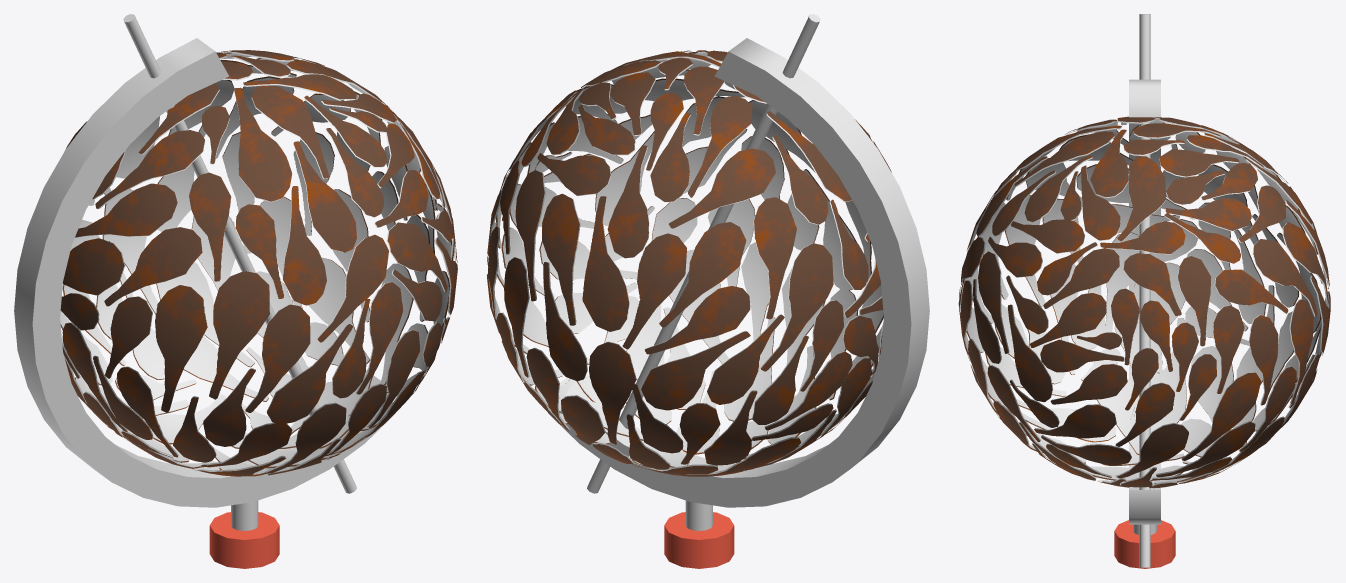
The model's file is RotondaMundoJamonExport.fbx.
3 views of the same model, side by side, from view 1: azimuth 30°, elevation 25°; view 2: azimuth 150°, elevation 25°; view 3: azimuth 270°, elevation 25° (orthographic). The views are drawn at different scales.
Parts seen in each view (by area): view 1: Esfera, Arc; view 2: Esfera, Arc; view 3: Esfera, Arc.
Boxes of the visible parts, left/top/right/bottom form: Esfera: left=60, top=50, right=457, bottom=476; Arc: left=14, top=14, right=395, bottom=568; Esfera: left=487, top=50, right=891, bottom=476; Arc: left=548, top=14, right=929, bottom=568; Esfera: left=958, top=116, right=1330, bottom=488; Arc: left=1114, top=14, right=1175, bottom=568.
Size of the model in its own units: 235 by 313 by 214.
Materials: 4 (1 with a texture image).
